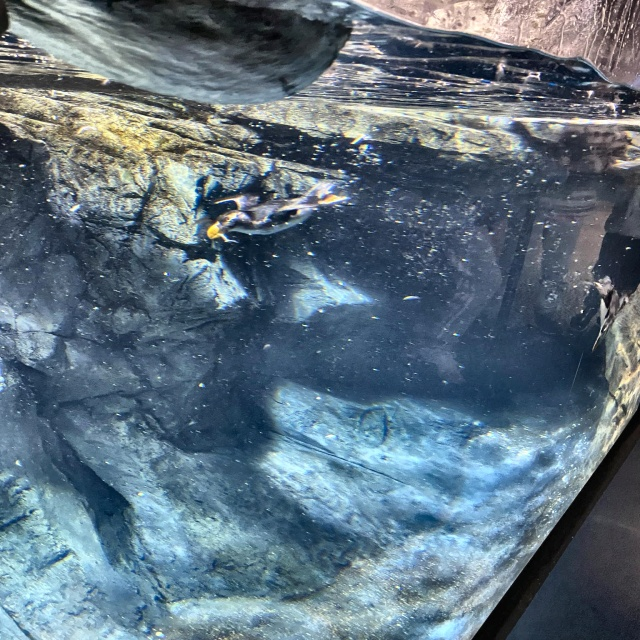puffin: (195, 180, 342, 248)
